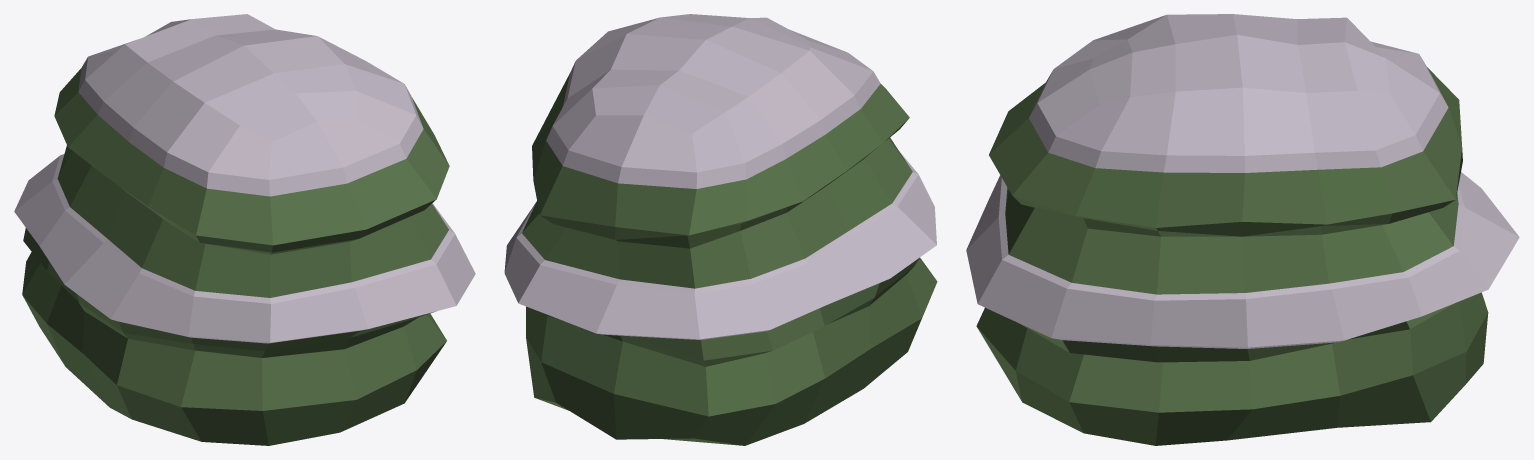
The model's file is bush_snow_1.glb.
3 renders of one model, left to right at view 1: azimuth 30°, elevation 25°; view 2: azimuth 150°, elevation 25°; view 3: azimuth 270°, elevation 25°, orthographic. The views are drawn at different scales.
Parts seen in each view (by area): view 1: bush_snow_1; view 2: bush_snow_1; view 3: bush_snow_1.
Boxes of the visible parts, bbox=[...] form: bush_snow_1: bbox=[14, 14, 475, 445]; bush_snow_1: bbox=[504, 14, 937, 445]; bush_snow_1: bbox=[966, 14, 1519, 445].
Size of the model in its own units: 1.39 by 1.28 by 1.78.
Materials: 1 (1 with a texture image).
